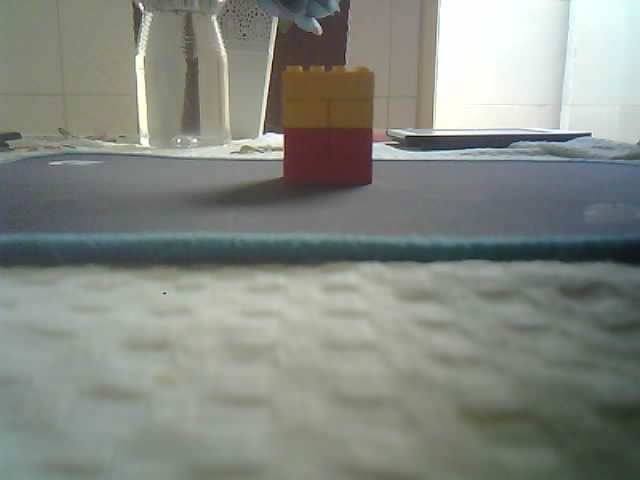lego: (279, 64, 375, 186)
